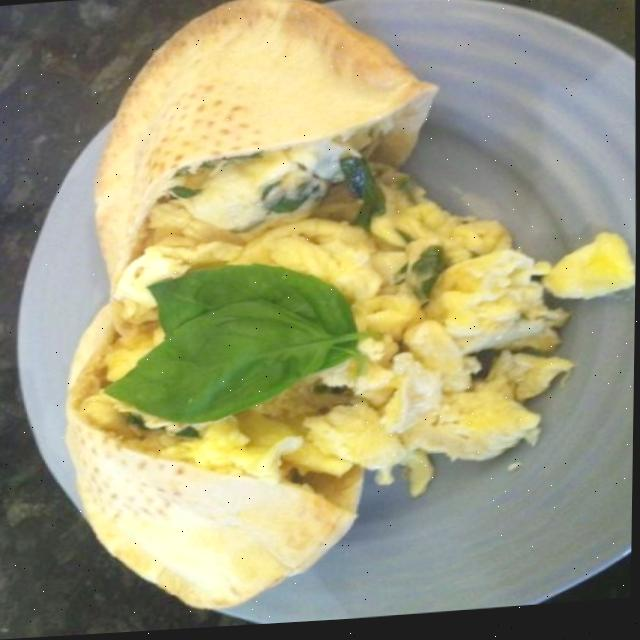鸡蛋料理: (27, 8, 585, 612)
